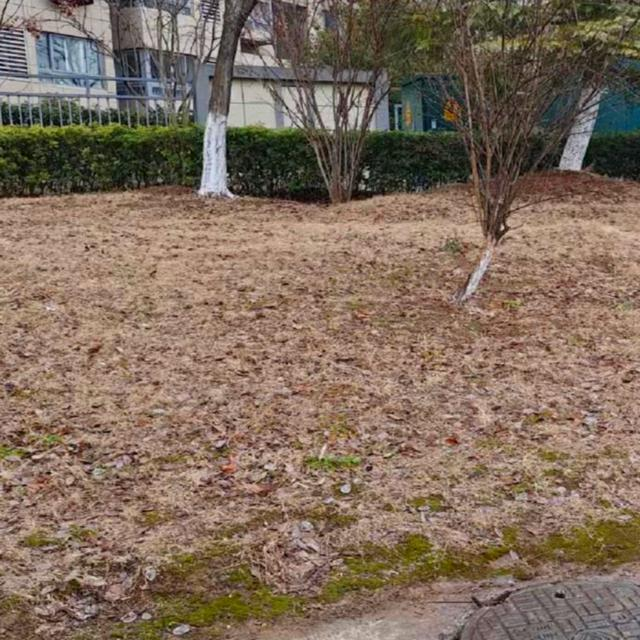circle: (445, 572, 640, 640)
